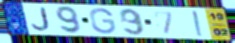7: (153, 11, 175, 35)
9: (54, 6, 84, 35), (118, 8, 146, 36)
G: (89, 7, 118, 35)
I: (191, 10, 206, 38)
J: (30, 7, 52, 32)
